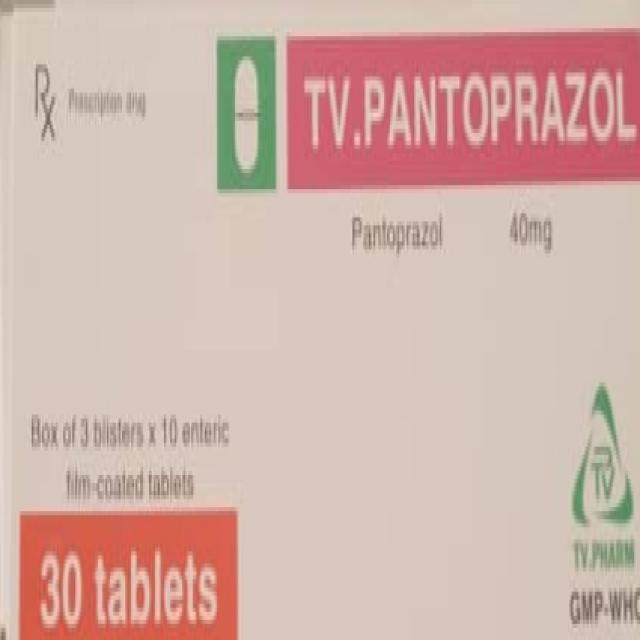drug-name: (297, 58, 638, 150)
